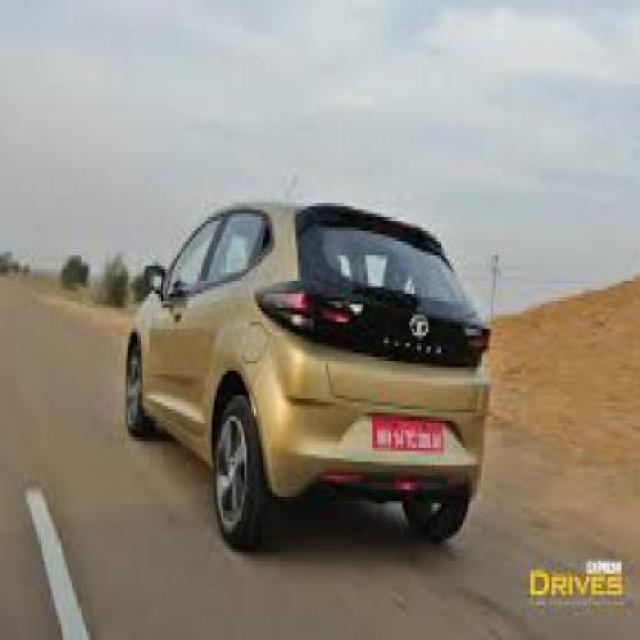vehicle: (120, 176, 496, 564)
